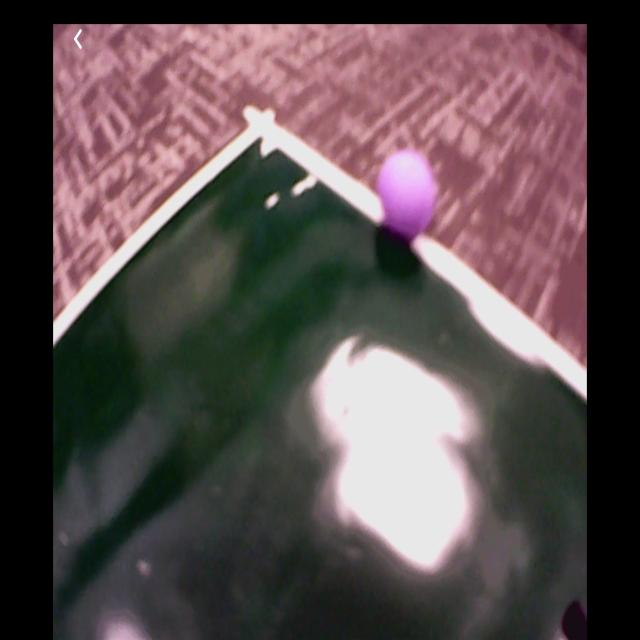ball: (380, 151, 437, 239)
